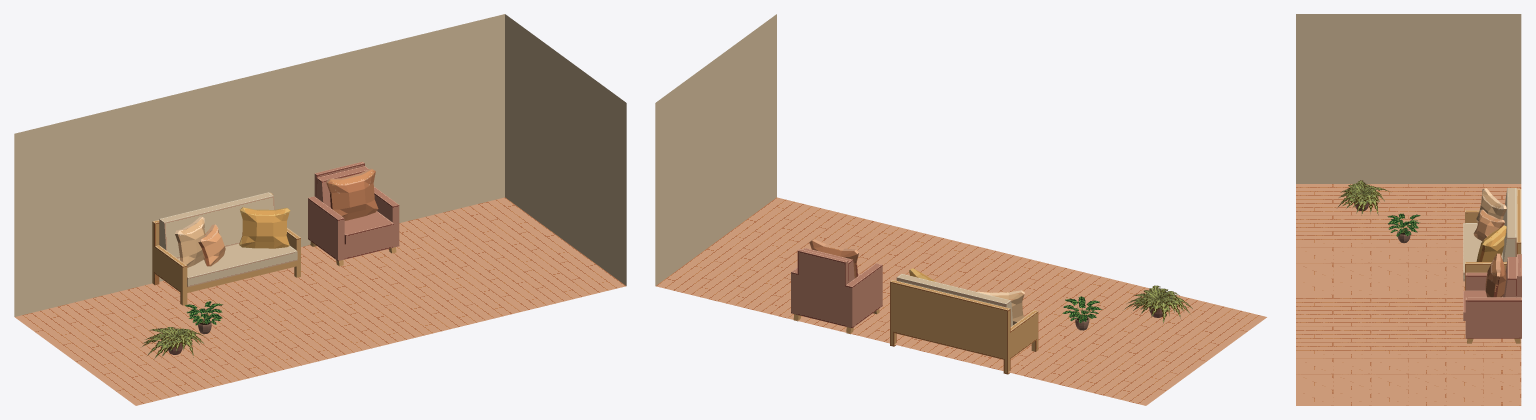
The model's file is peris-sim.gltf.
The picture shows the model from 3 angles, left to right: view 1: azimuth 30°, elevation 25°; view 2: azimuth 150°, elevation 25°; view 3: azimuth 270°, elevation 25°; orthographic projection. The views are drawn at different scales.
Size of the model in its own units: 14 by 5.06 by 6.02.
14 materials, 14 textured.
